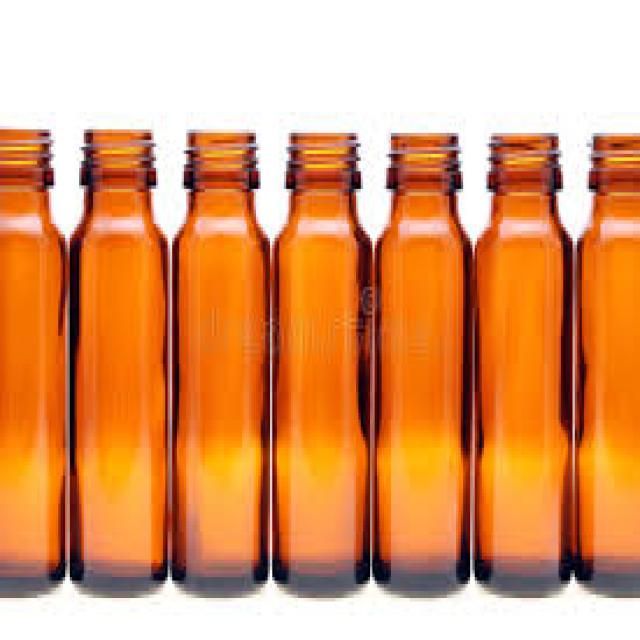glass: (68, 126, 168, 594), (473, 129, 573, 591), (170, 126, 268, 591), (272, 129, 370, 591), (372, 129, 468, 591), (573, 130, 638, 595), (0, 126, 65, 591)
